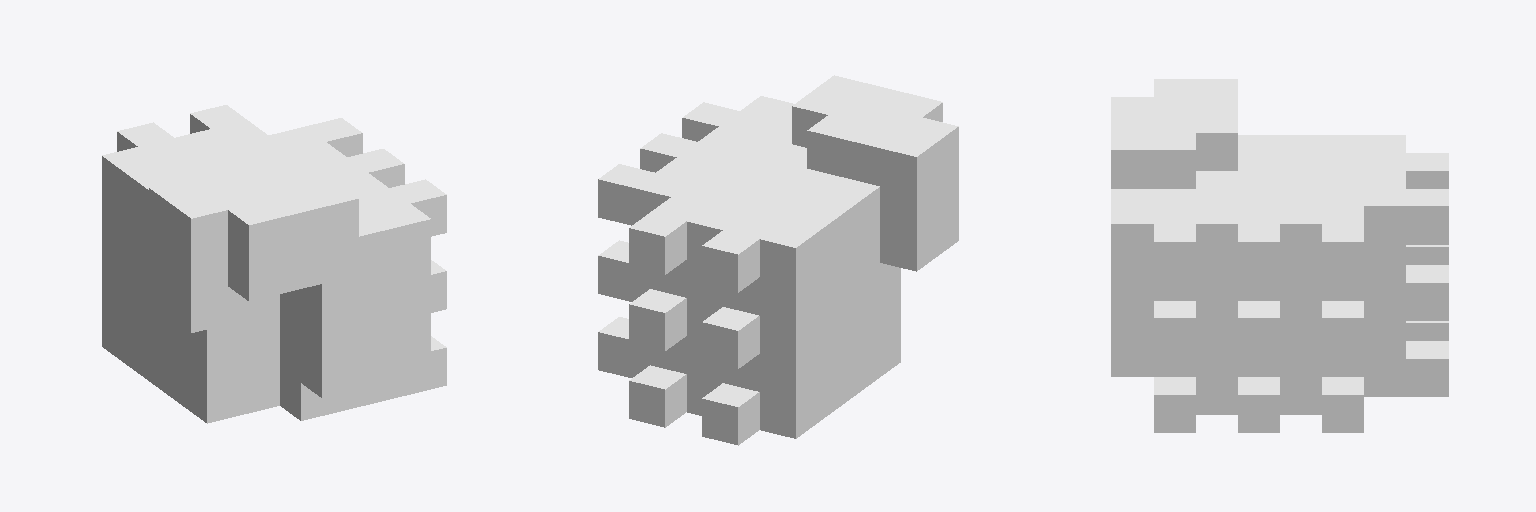
File: glove.vox.obj
The picture shows the model from 3 angles: view 1: azimuth 30°, elevation 25°; view 2: azimuth 150°, elevation 25°; view 3: azimuth 270°, elevation 25°; orthographic projection.
Parts seen in each view (by area): view 1: object 1; view 2: object 1; view 3: object 1.
Part boxes in pixels (x1,y1,x2,y2): object 1: (102,105,446,423); object 1: (598,75,958,445); object 1: (1111,79,1448,432).
Size of the model in its own units: 0.7 by 0.6 by 0.8.